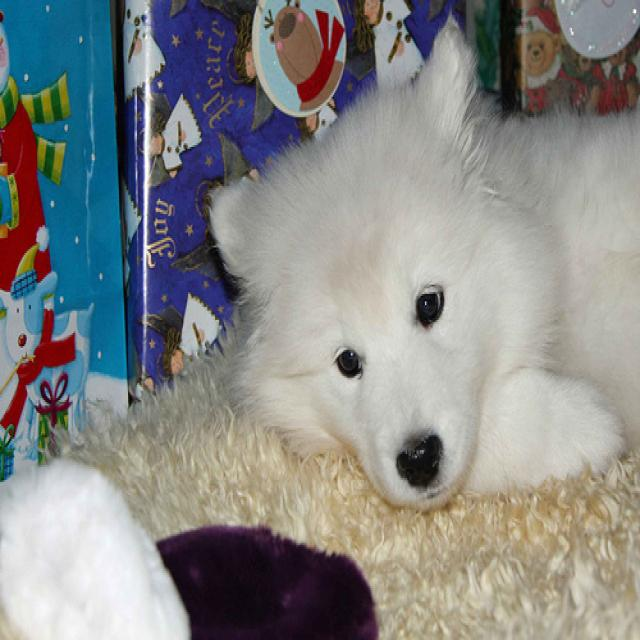dog-samoyed: (200, 15, 637, 515)
